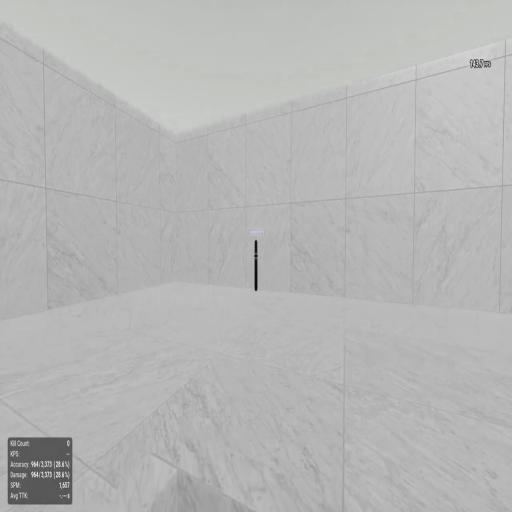Crosshair: (253, 252, 259, 260)
Target: (254, 239, 258, 291)
